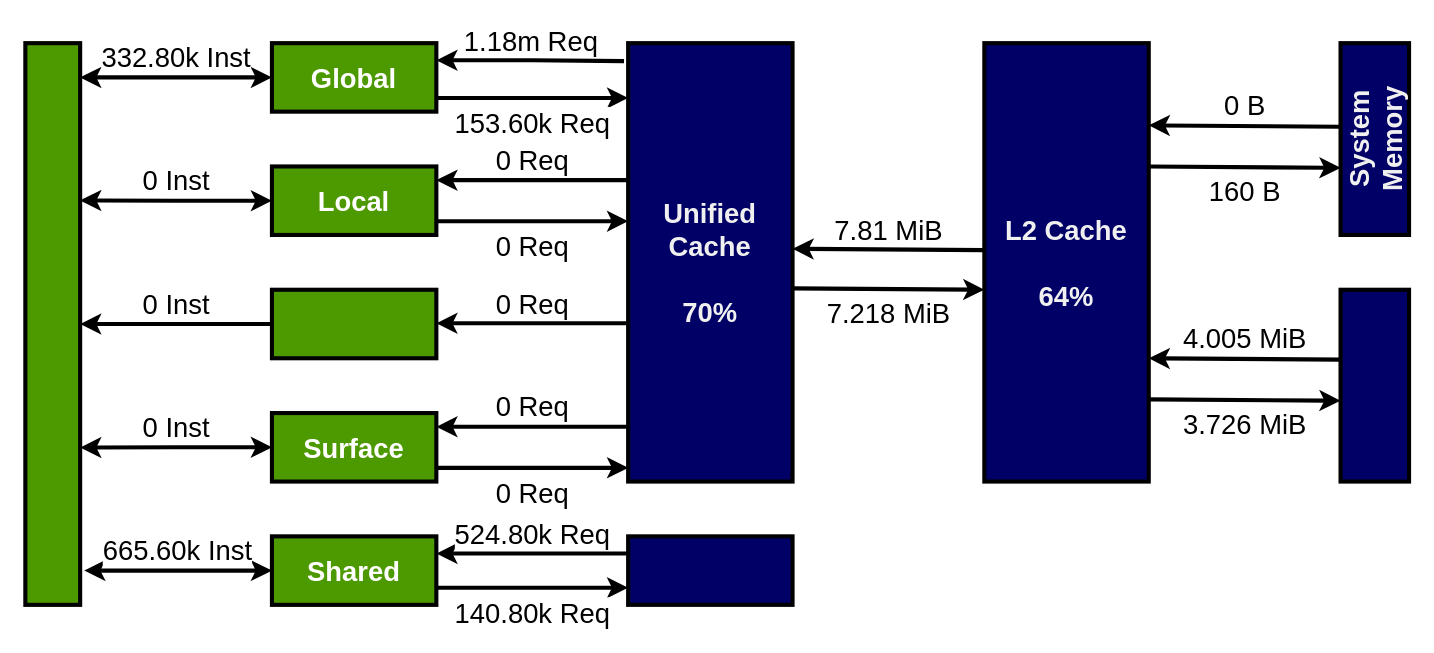
The diagram is 1434 pixels wide and 653 high, and some of its shapes have lost their labels. Each missing label, with the centre of its shape:
"Device Memory" goes at pixel 1374 385.
"Diffusion Kernel" goes at pixel 52 323.
"Shared Memory" goes at pixel 709 570.
"Texture" goes at pixel 353 323.
